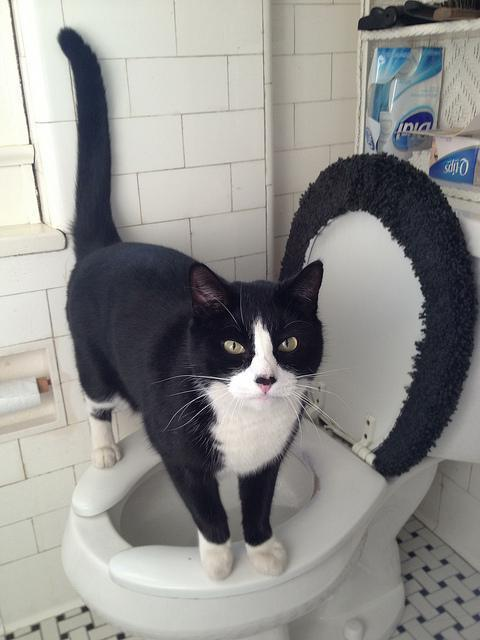Otro Obstaculo: (45, 23, 355, 592)
Sanitario: (62, 175, 475, 639)
